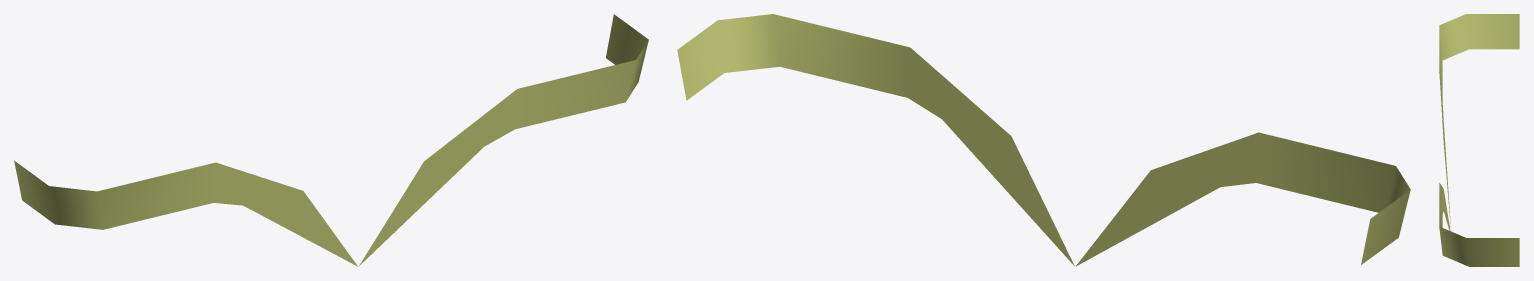
File: whiskers.dae
3 views of the same model, side by side, from view 1: azimuth 30°, elevation 25°; view 2: azimuth 150°, elevation 25°; view 3: azimuth 270°, elevation 25° (orthographic). The views are drawn at different scales.
Parts seen in each view (by area): view 1: Plane_032; view 2: Plane_032; view 3: Plane_032.
Boxes of the visible parts, x1,y1,x2,y2 form: Plane_032: [14, 14, 648, 266]; Plane_032: [677, 14, 1410, 266]; Plane_032: [1439, 14, 1519, 266].
Size of the model in its own units: 1.99 by 0.3024 by 0.4667.
